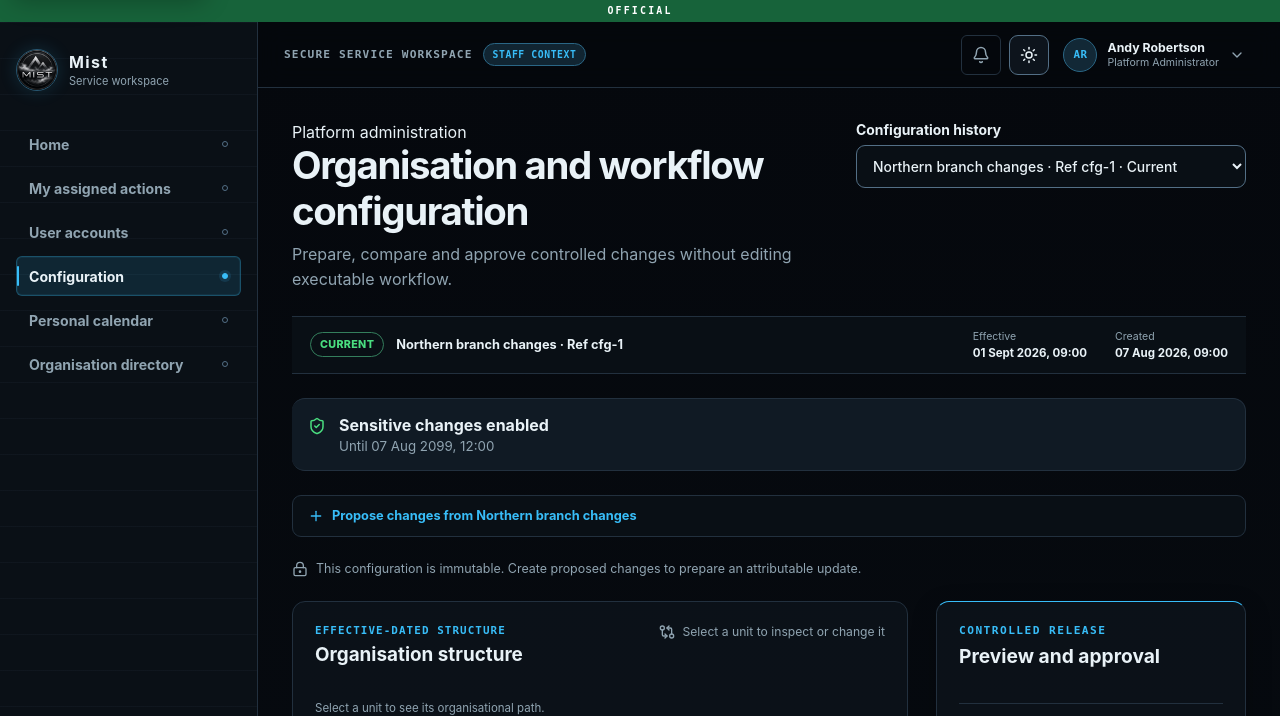
Scenario: configuration administration journey › creates and immediately selects future proposed changes
The width and height of the screenshot is (1280, 716).
Click the heading "Propose changes from Northern branch changes" at (472, 516), box x1=308 y1=508 x2=637 y2=524
(page scrolled)
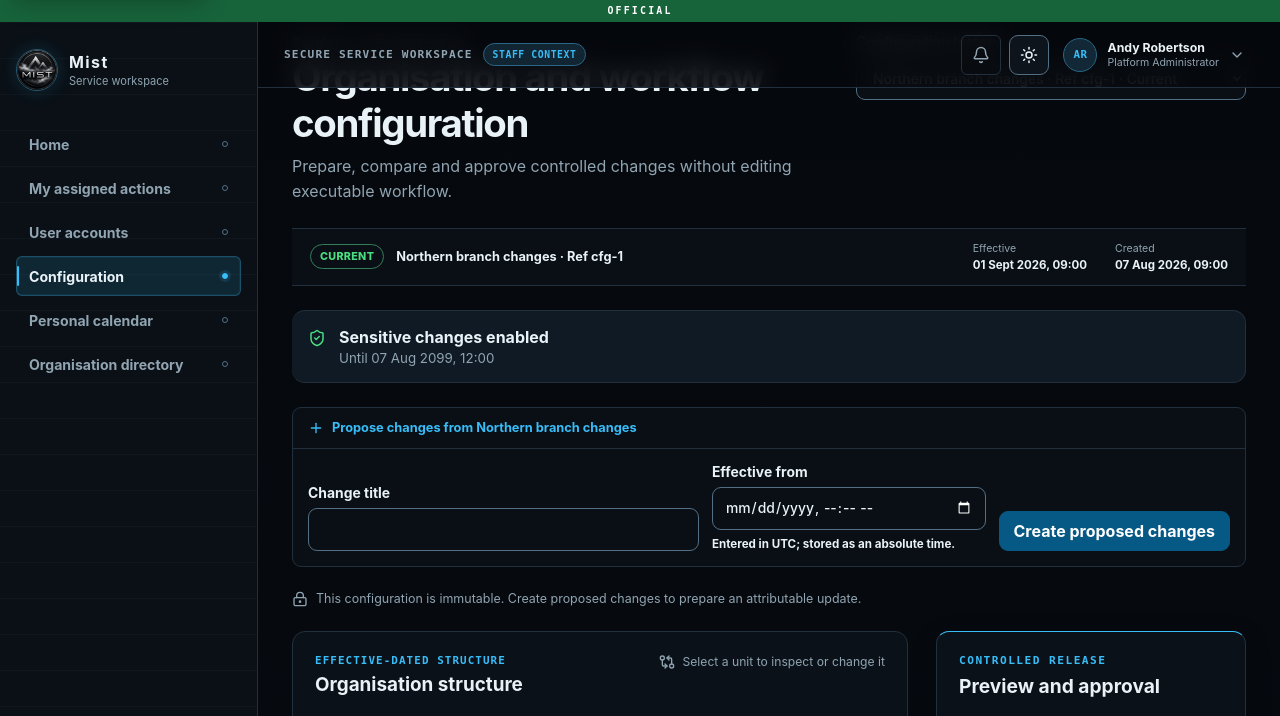
Type "Autumn branch configuration" into the field labelled "Change title" at (503, 529), box x1=308 y1=508 x2=699 y2=551
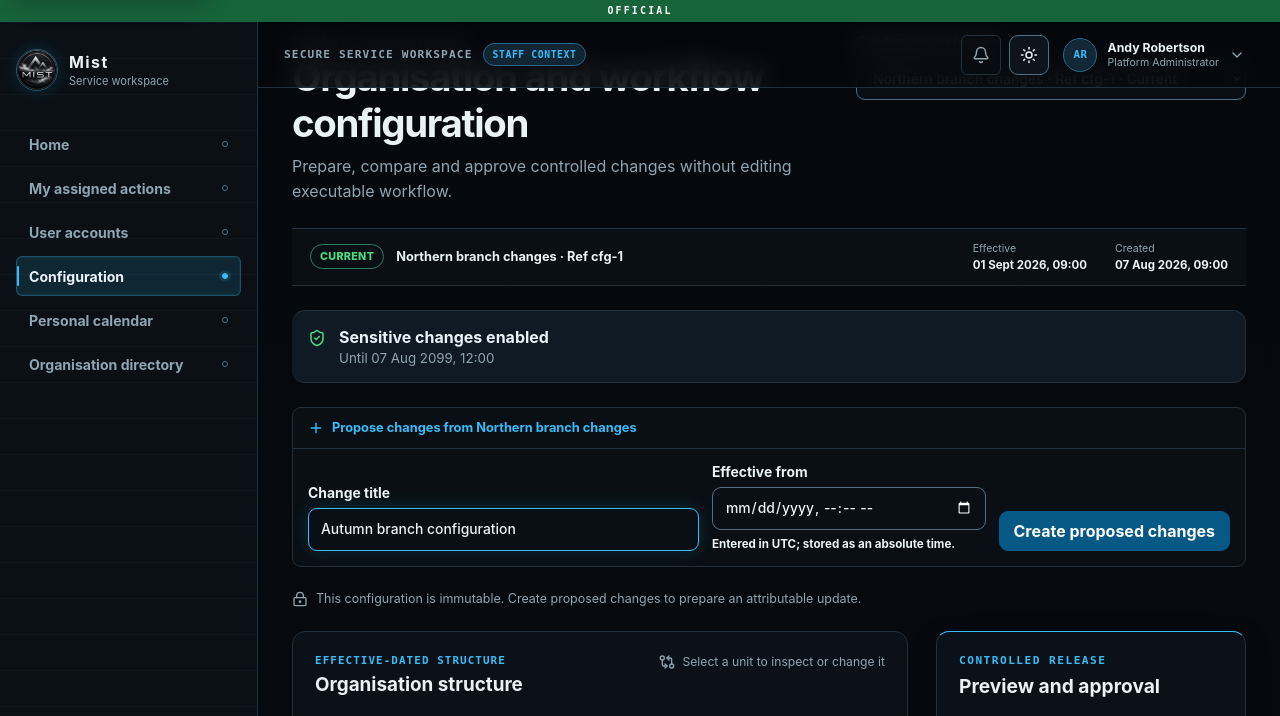
Type "2026-10-01T09:30" into the field labelled "Effective from" at (849, 508), box x1=712 y1=487 x2=986 y2=530
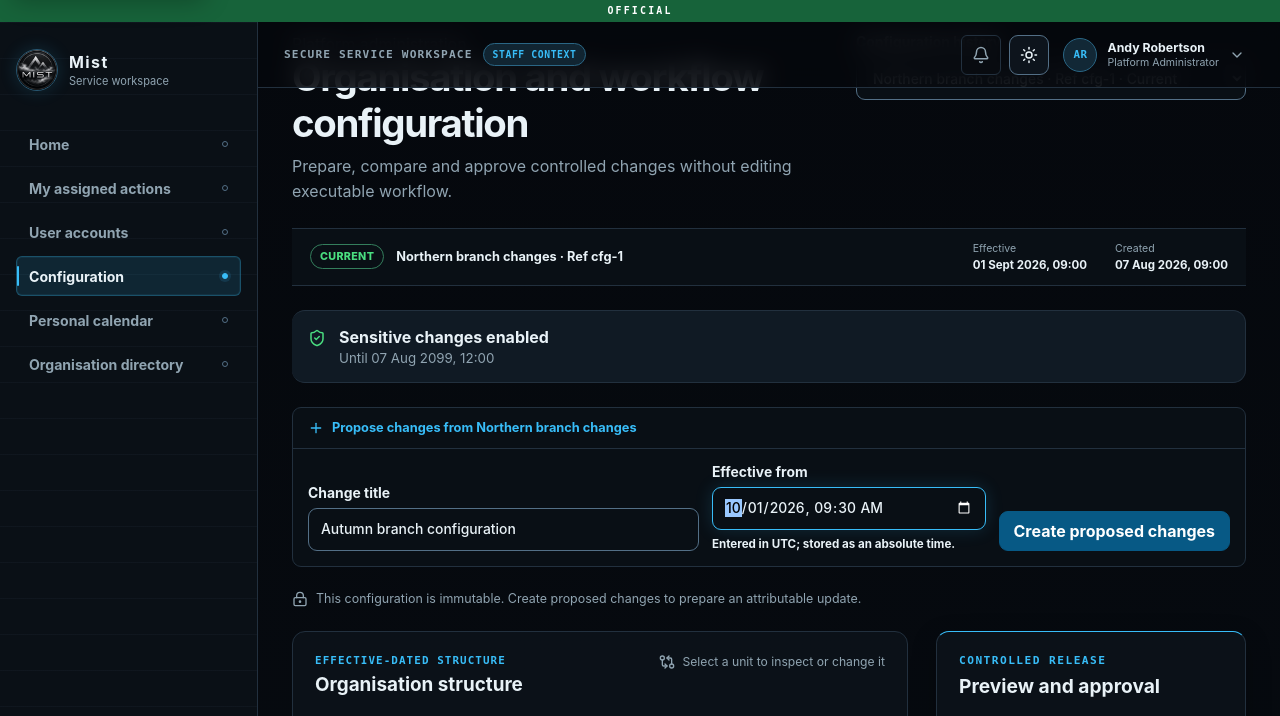
Click the button "Create proposed changes" at (1114, 531), box x1=998 y1=511 x2=1230 y2=551
(page scrolled)
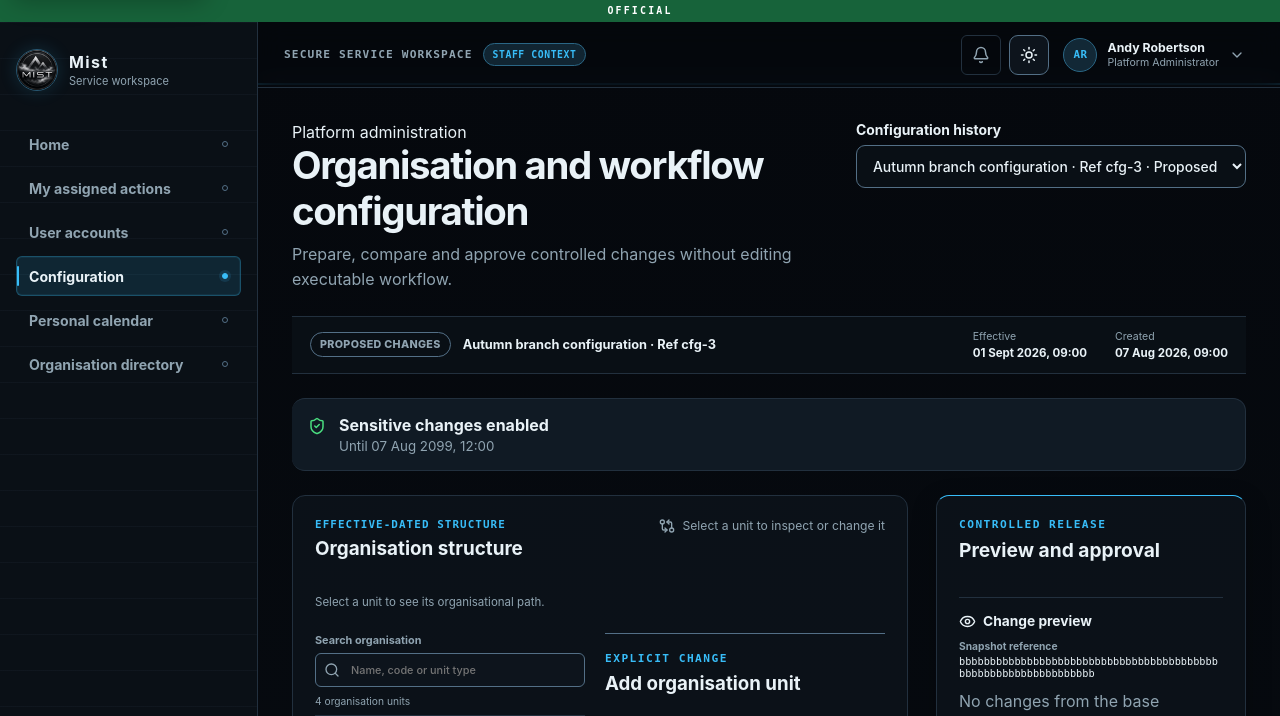
Now the text "Proposed changes" is shown, box x1=310 y1=332 x2=451 y2=357
Now the dropdown labelled "Configuration history" shows "Autumn branch configuration · Ref cfg-3 · Proposed changes", box x1=856 y1=145 x2=1246 y2=188
